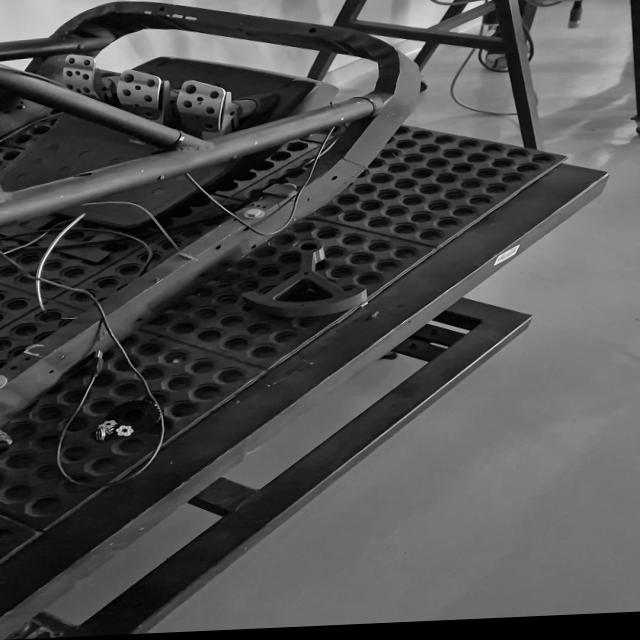haptic: (240, 237, 369, 321)
